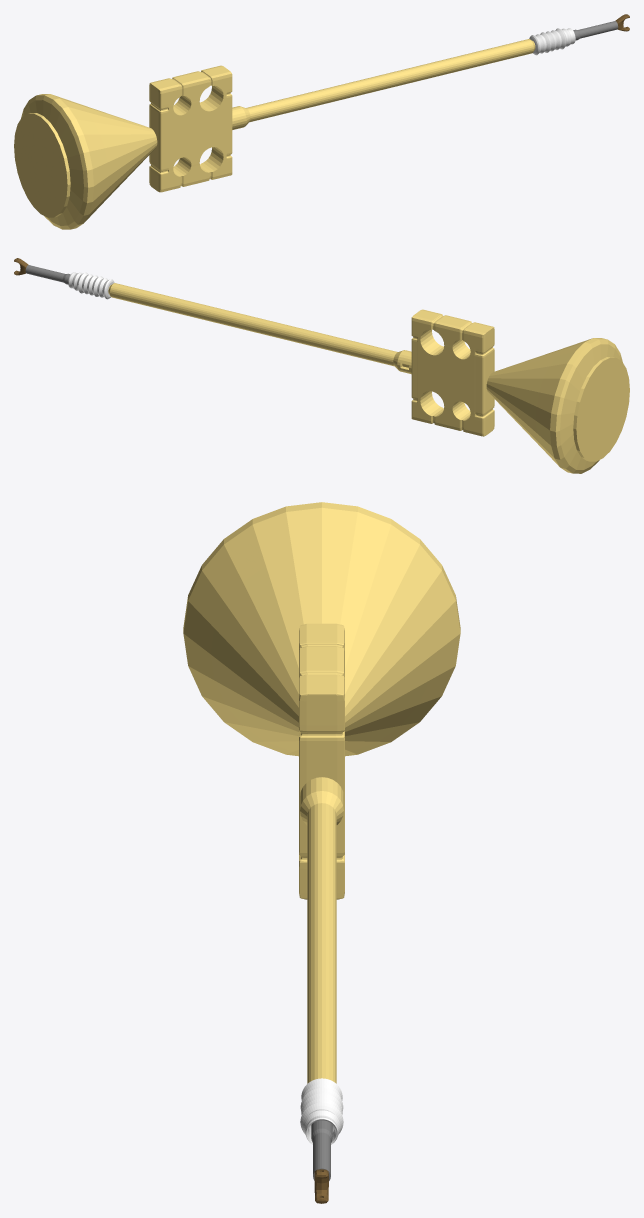
File: swivelock.fbx
3 renders of one model, top to bottom at view 1: azimuth 30°, elevation 25°; view 2: azimuth 150°, elevation 25°; view 3: azimuth 270°, elevation 25°, orthographic. The views are drawn at different scales.
Parts seen in each view (by area): view 1: pushlock_v003_(1); view 2: pushlock_v003_(1); view 3: pushlock_v003_(1).
Part boxes in pixels (left/top/right/bottom): pushlock_v003_(1): left=14, top=14, right=629, bottom=229; pushlock_v003_(1): left=14, top=258, right=629, bottom=473; pushlock_v003_(1): left=183, top=502, right=460, bottom=1203.
Bounding box in the file's own units: 153 × 31.14 × 31.14.
